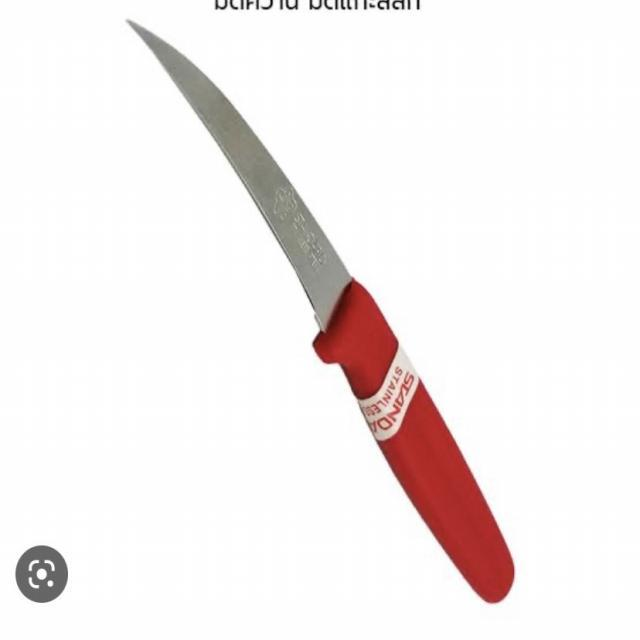Knife: (119, 10, 529, 608)
